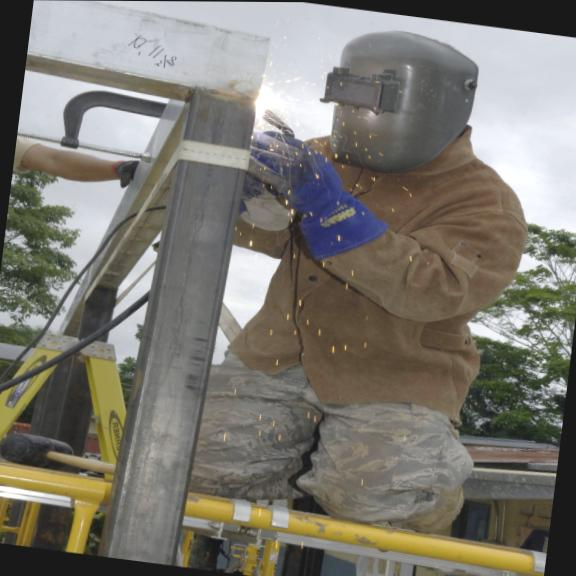no_safety_vest: (243, 122, 534, 383)
